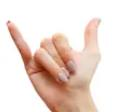clockwise: (5, 18, 102, 102)
